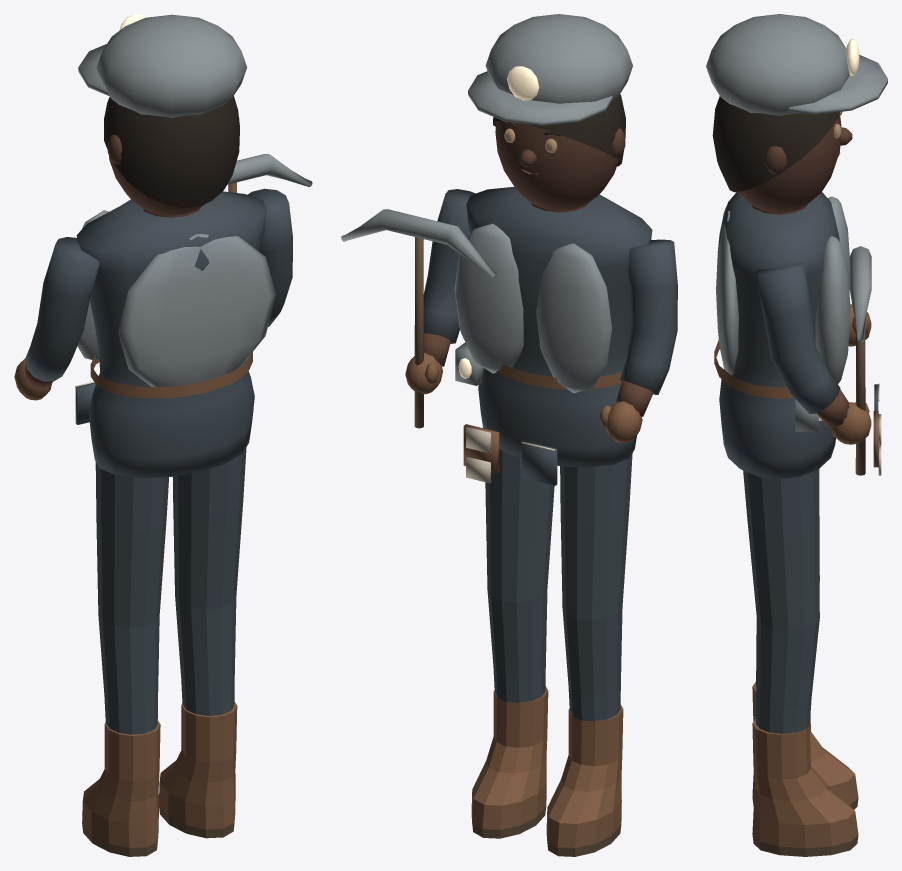
The model's file is SM_NPC_PEDRO.glb.
3 renders of one model, left to right at view 1: azimuth 30°, elevation 25°; view 2: azimuth 150°, elevation 25°; view 3: azimuth 270°, elevation 25°, orthographic. The views are drawn at different scales.
Visible parts, largest first — view 1: SM_NPC_PEDRO_BODY, SM_NPC_PEDRO_LEG_L, SM_NPC_PEDRO_HAIR, SM_NPC_PEDRO_LEG_R, SM_NPC_PEDRO_ARM_L, SM_NPC_PEDRO_ARM_R, SM_NPC_PEDRO_HEAD; view 2: SM_NPC_PEDRO_BODY, SM_NPC_PEDRO_LEG_L, SM_NPC_PEDRO_LEG_R, SM_NPC_PEDRO_HAIR, SM_NPC_PEDRO_ARM_R, SM_NPC_PEDRO_ARM_L, SM_NPC_PEDRO_HEAD; view 3: SM_NPC_PEDRO_BODY, SM_NPC_PEDRO_LEG_R, SM_NPC_PEDRO_HAIR, SM_NPC_PEDRO_ARM_R, SM_NPC_PEDRO_HEAD, SM_NPC_PEDRO_LEG_L, SM_NPC_PEDRO_ARM_L.
Part boxes in pixels (x1,y1,x2,y2): SM_NPC_PEDRO_BODY: (75,191,275,477); SM_NPC_PEDRO_LEG_L: (82,461,168,856); SM_NPC_PEDRO_HAIR: (78,14,247,207); SM_NPC_PEDRO_LEG_R: (159,447,246,838); SM_NPC_PEDRO_ARM_L: (14,237,99,400); SM_NPC_PEDRO_ARM_R: (227,154,312,326); SM_NPC_PEDRO_HEAD: (107,118,239,215); SM_NPC_PEDRO_BODY: (454,187,652,485); SM_NPC_PEDRO_LEG_L: (546,453,632,856); SM_NPC_PEDRO_LEG_R: (471,449,554,838); SM_NPC_PEDRO_HAIR: (468,14,632,166); SM_NPC_PEDRO_ARM_R: (341,189,497,428); SM_NPC_PEDRO_ARM_L: (599,239,677,442); SM_NPC_PEDRO_HEAD: (495,121,625,210); SM_NPC_PEDRO_BODY: (714,192,881,478); SM_NPC_PEDRO_LEG_R: (743,469,858,856); SM_NPC_PEDRO_HAIR: (706,14,887,192); SM_NPC_PEDRO_ARM_R: (755,246,871,475); SM_NPC_PEDRO_HEAD: (737,114,852,212); SM_NPC_PEDRO_LEG_L: (752,469,858,809); SM_NPC_PEDRO_ARM_L: (848,304,871,346).
Bounding box in the file's own units: 0.7367 × 1.87 × 0.3848.
